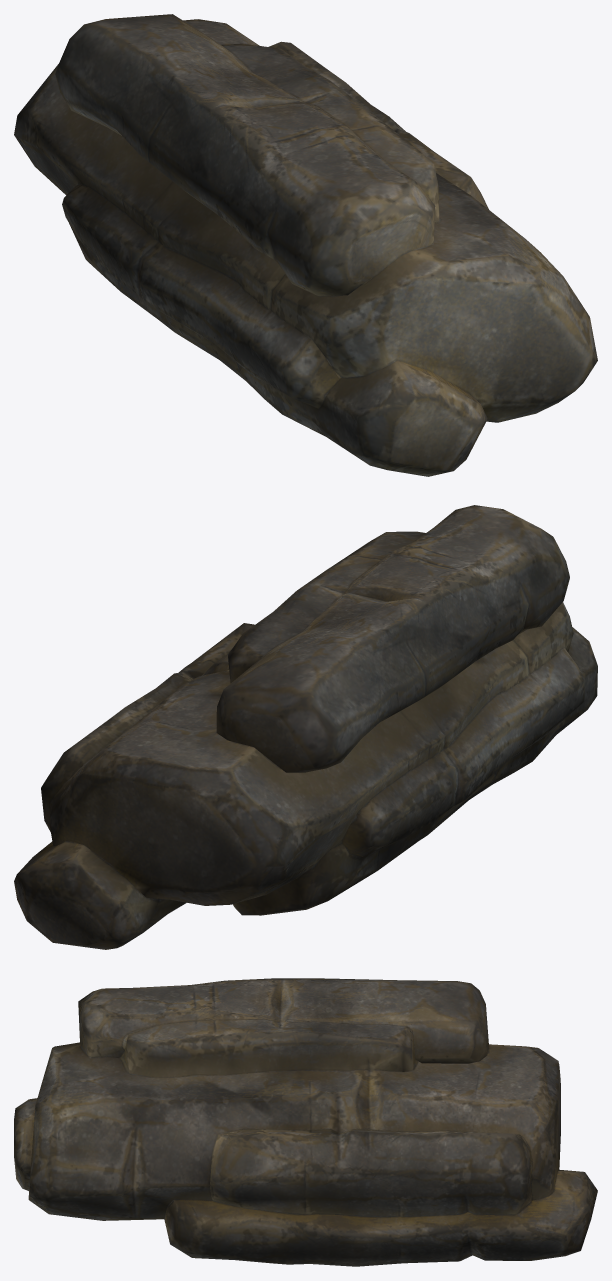
File: rock_pillar_02.obj
3 renders of one model, top to bottom at view 1: azimuth 30°, elevation 25°; view 2: azimuth 150°, elevation 25°; view 3: azimuth 270°, elevation 25°, orthographic. The views are drawn at different scales.
Visible parts, largest first — view 1: rock_pillar_02; view 2: rock_pillar_02; view 3: rock_pillar_02.
Boxes of the visible parts, left/top/right/bottom form: rock_pillar_02: left=14, top=14, right=597, bottom=476; rock_pillar_02: left=14, top=505, right=597, bottom=949; rock_pillar_02: left=14, top=978, right=597, bottom=1266.
Bounding box in the file's own units: 5.58 × 4.94 × 12.
1 material, 1 textured.
